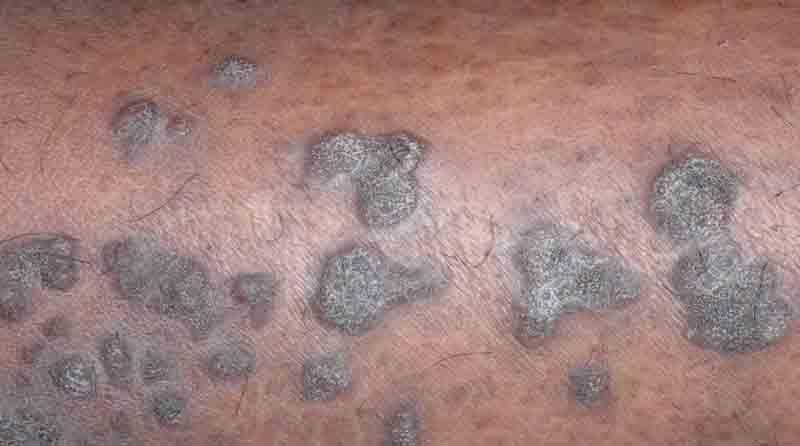hypertrophic lichen planus: (37, 45, 784, 433)
